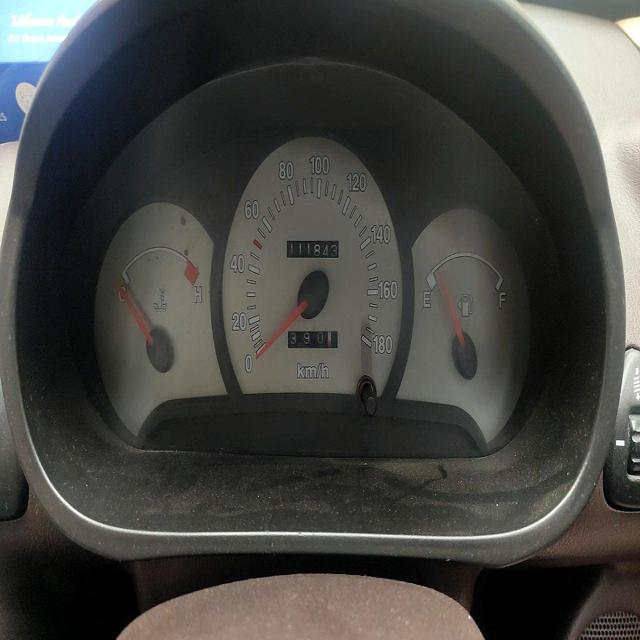odometer: (286, 239, 339, 258)
